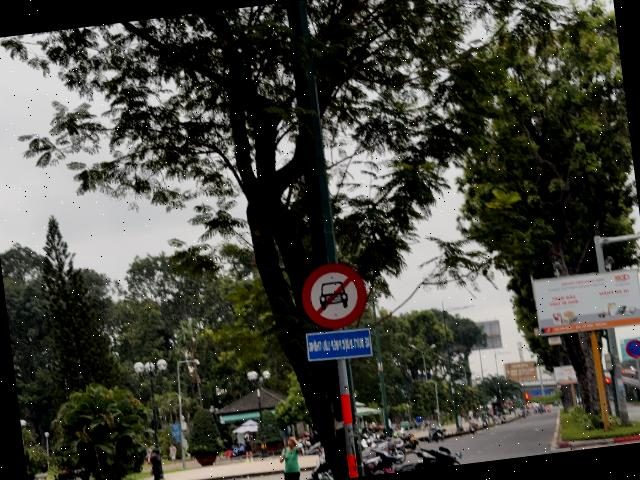cam-o-to: (298, 260, 370, 332)
